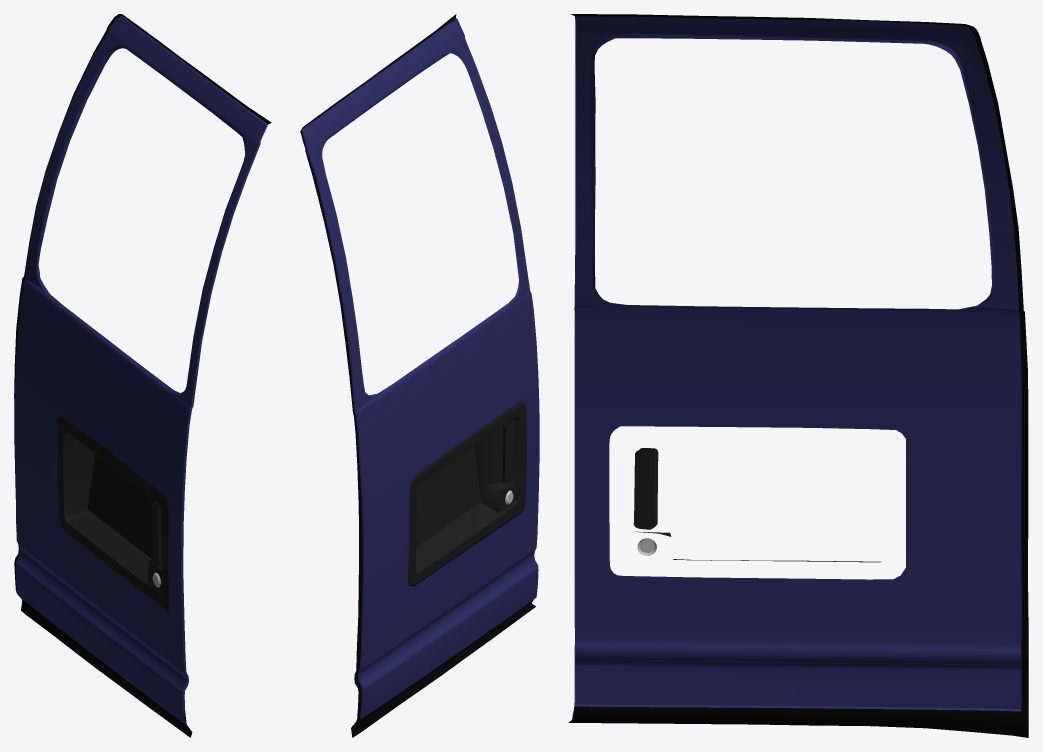
The picture shows the model from 3 angles, left to right: view 1: azimuth 30°, elevation 25°; view 2: azimuth 150°, elevation 25°; view 3: azimuth 270°, elevation 25°; orthographic projection. The views are drawn at different scales.
Visible parts, largest first — view 1: P615_5A_50CA_L_1_DaS_P615_5A_50CA_L, P615_5A_50CA_L_P615_5A_50CA_L_3_D, P615_5A_50CA_L_1_DaS_P615_5A_50CA_L_E, P615_5A_50CA_L_P615_5A_50CA_L_4_D; view 2: P615_5A_50CA_L_1_DaS_P615_5A_50CA_L, P615_5A_50CA_L_P615_5A_50CA_L_3_D, P615_5A_50CA_L_P615_5A_50CA_L_4_D, P615_5A_50CA_L_1_DaS_P615_5A_50CA_L_E; view 3: P615_5A_50CA_L_1_DaS_P615_5A_50CA_L, P615_5A_50CA_L_P615_5A_50CA_L_4_D, P615_5A_50CA_L_1_DaS_P615_5A_50CA_L_E, P615_5A_50CA_L_P615_5A_50CA_L_3_D.
Boxes of the visible parts, x1,y1,x2,y2 form: P615_5A_50CA_L_1_DaS_P615_5A_50CA_L: (14, 16, 265, 723); P615_5A_50CA_L_P615_5A_50CA_L_3_D: (57, 416, 169, 611); P615_5A_50CA_L_1_DaS_P615_5A_50CA_L_E: (36, 15, 267, 724); P615_5A_50CA_L_P615_5A_50CA_L_4_D: (14, 14, 271, 737); P615_5A_50CA_L_1_DaS_P615_5A_50CA_L: (303, 19, 539, 718); P615_5A_50CA_L_P615_5A_50CA_L_3_D: (407, 401, 526, 586); P615_5A_50CA_L_P615_5A_50CA_L_4_D: (300, 14, 535, 737); P615_5A_50CA_L_1_DaS_P615_5A_50CA_L_E: (302, 18, 521, 719); P615_5A_50CA_L_1_DaS_P615_5A_50CA_L: (575, 16, 1021, 709); P615_5A_50CA_L_P615_5A_50CA_L_4_D: (568, 14, 1028, 737); P615_5A_50CA_L_1_DaS_P615_5A_50CA_L_E: (574, 16, 1022, 711); P615_5A_50CA_L_P615_5A_50CA_L_3_D: (633, 448, 881, 562).
Size of the model in its own units: 22.76 by 140 by 75.81.
